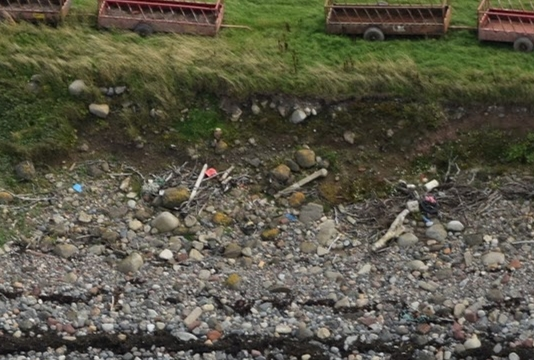straight_bar: (272, 164, 329, 203), (186, 161, 207, 201)
together_barrel: (397, 171, 450, 228)
white_in_green: (192, 150, 236, 192), (58, 170, 101, 206)
